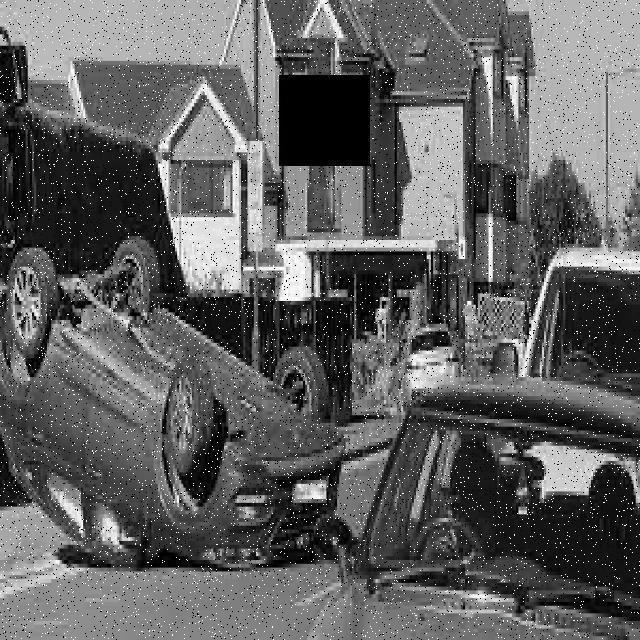accident: (0, 231, 348, 578)
vehicle: (312, 375, 639, 640), (515, 229, 639, 379), (393, 328, 459, 417)
